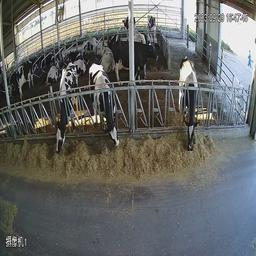cow: (85, 62, 123, 158), (55, 60, 82, 161), (177, 53, 202, 156), (110, 37, 160, 88), (13, 52, 39, 99), (93, 38, 115, 74), (44, 49, 60, 87), (71, 42, 86, 74), (145, 11, 158, 41)
